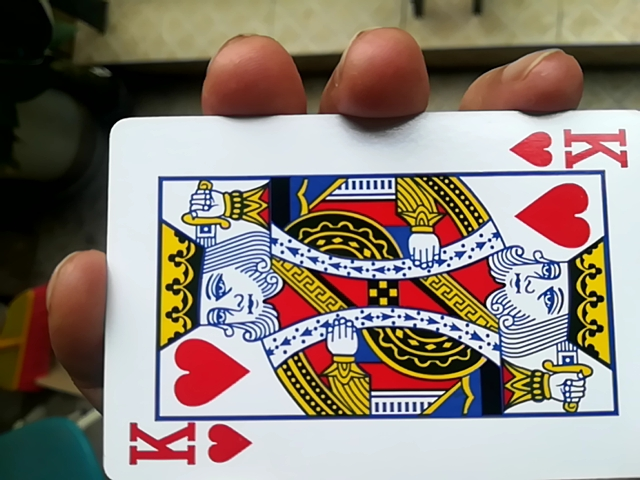hx k: (102, 115, 637, 480)
